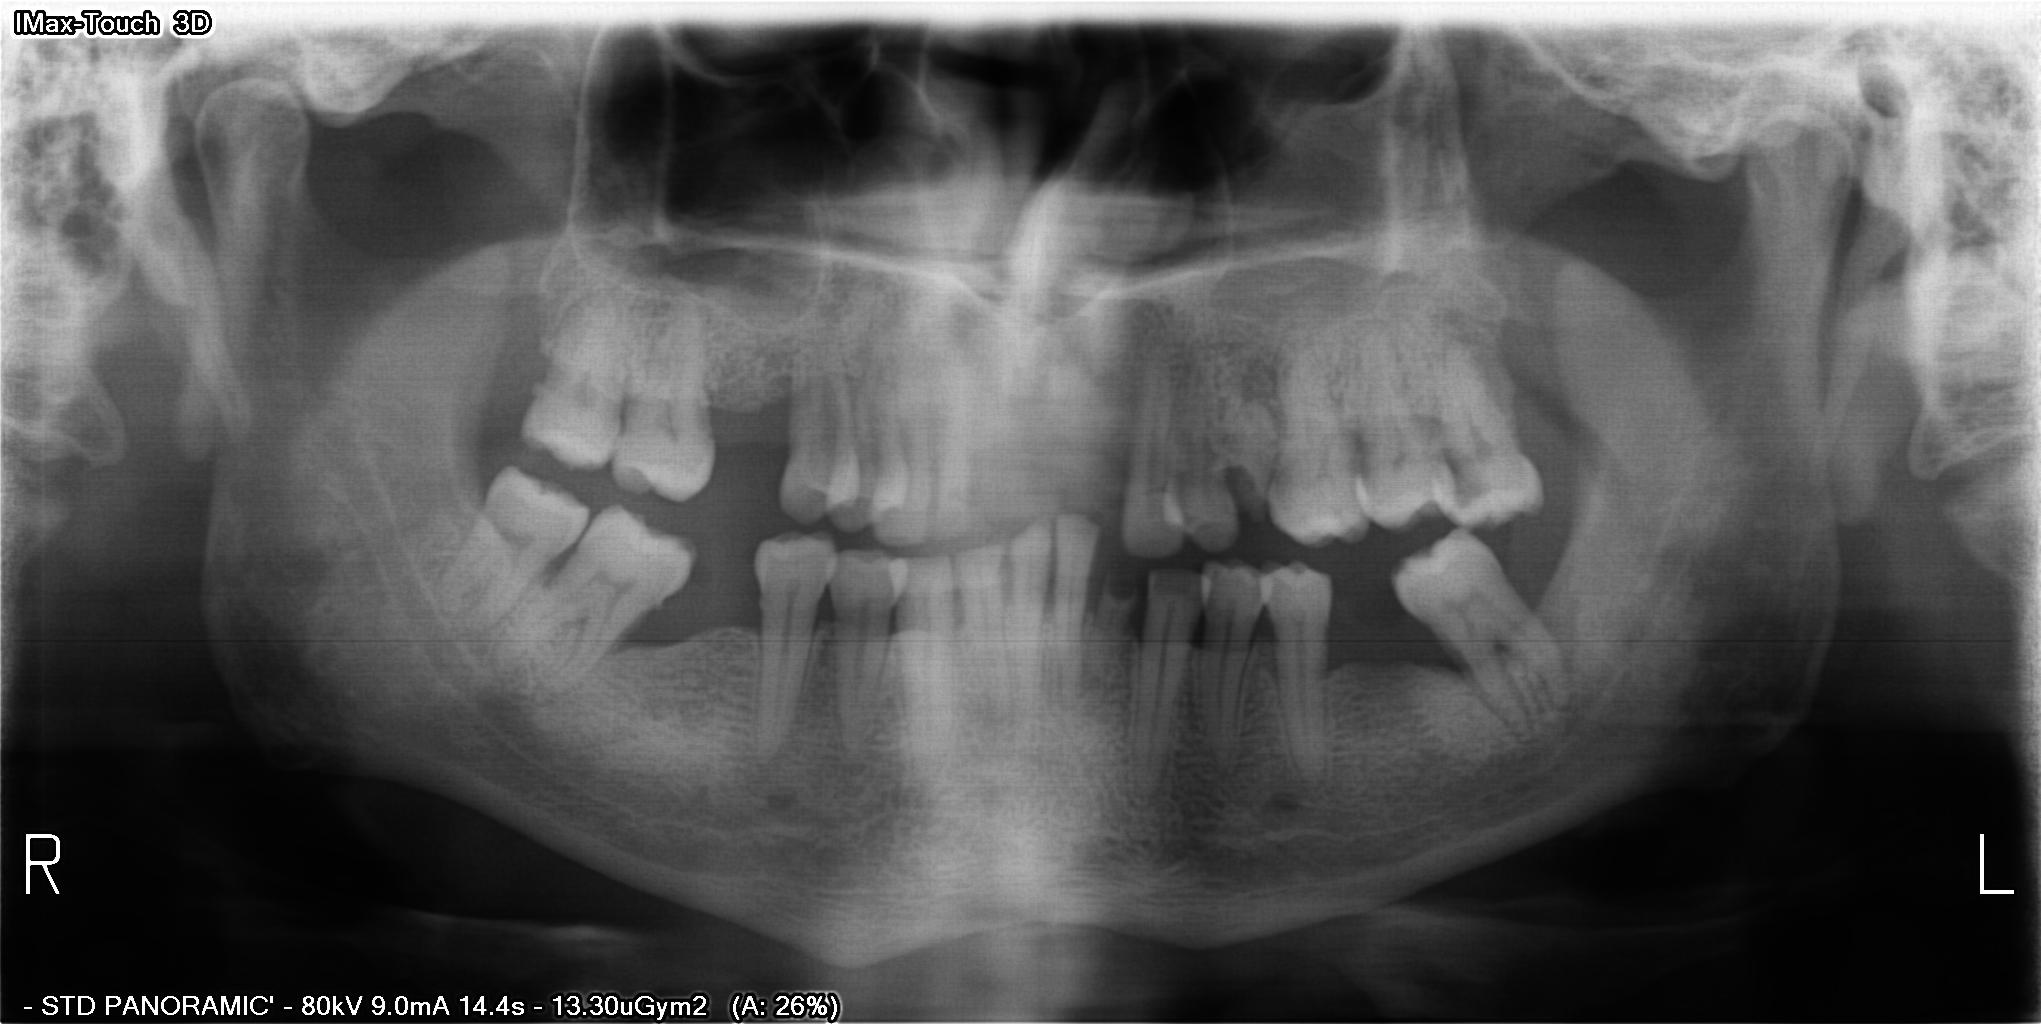Çürük Bölgesi: (1221, 458, 1268, 530), (1443, 455, 1489, 512), (1106, 569, 1132, 602)
